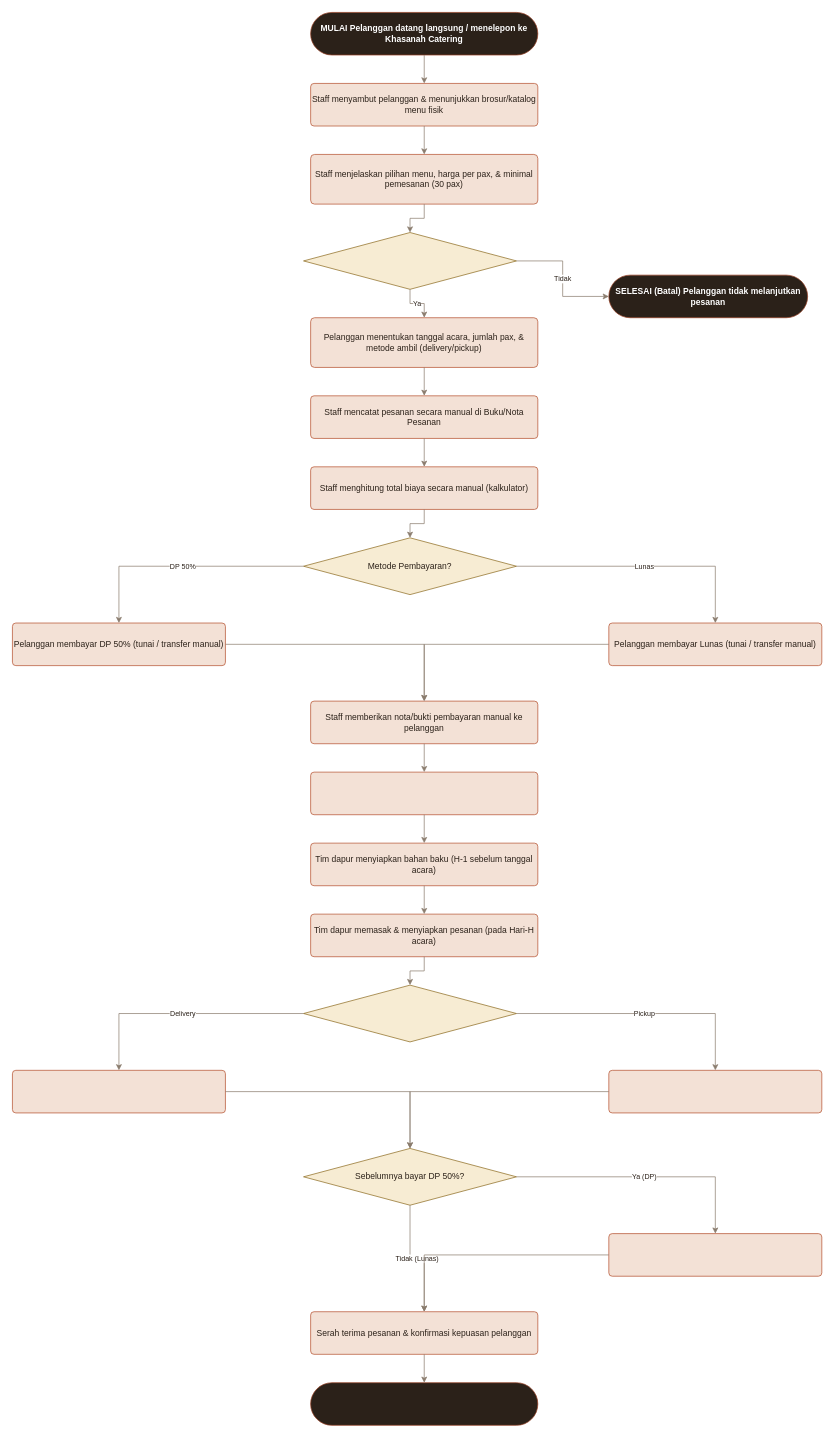
This 834x1438 diagram has some shape labels left out. Each missing label, with the box of its shape:
Metode Pengiriman?: (303, 984, 517, 1042)
Pelanggan melunasi sisa pembayaran saat serah terima: (608, 1233, 822, 1276)
Pelanggan mengambil pesanan langsung di dapur Khasanah: (608, 1070, 822, 1113)
Pelanggan setuju dengan menu & harga?: (303, 232, 517, 289)
SELESAI Transaksi pemesanan katering berhasil: (310, 1382, 538, 1425)
Staff mencatat jadwal produksi ke Buku Jadwal Dapur: (310, 771, 538, 815)
Tim pengantar mengirim pesanan ke lokasi acara pelanggan: (12, 1070, 225, 1113)
